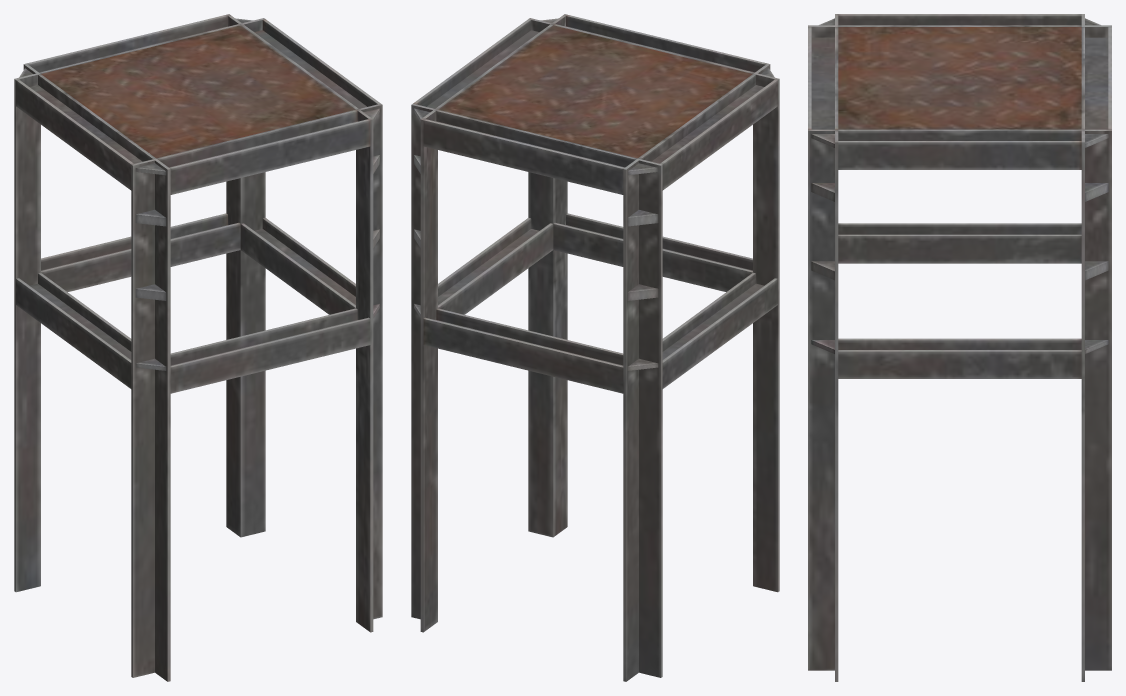
File: water_tank_stand.glb
3 views of the same model, side by side, from view 1: azimuth 30°, elevation 25°; view 2: azimuth 150°, elevation 25°; view 3: azimuth 270°, elevation 25° (orthographic). The views are drawn at different scales.
Parts seen in each view (by area): view 1: WaterTankStand; view 2: WaterTankStand; view 3: WaterTankStand.
Part boxes in pixels (x1,y1,x2,y2): WaterTankStand: (14,14,382,681); WaterTankStand: (411,14,779,681); WaterTankStand: (808,14,1111,681).
Bounding box in the file's own units: 200 × 392 × 200.
1 material, 1 textured.
